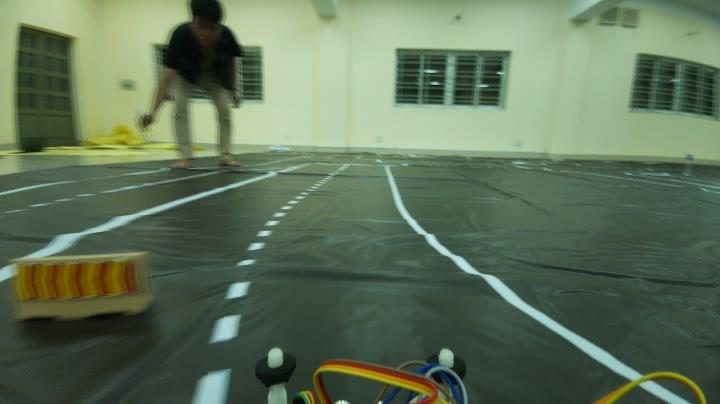roadblock: (8, 253, 162, 323)
